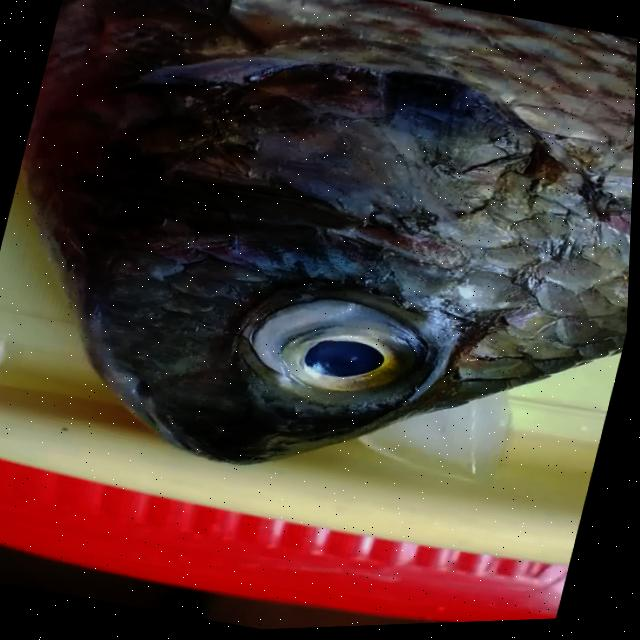Fresh: (214, 257, 467, 446)
